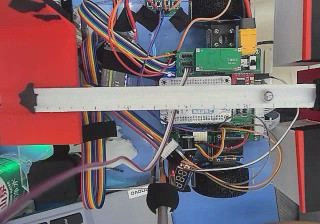ironball: (262, 89, 272, 100)
